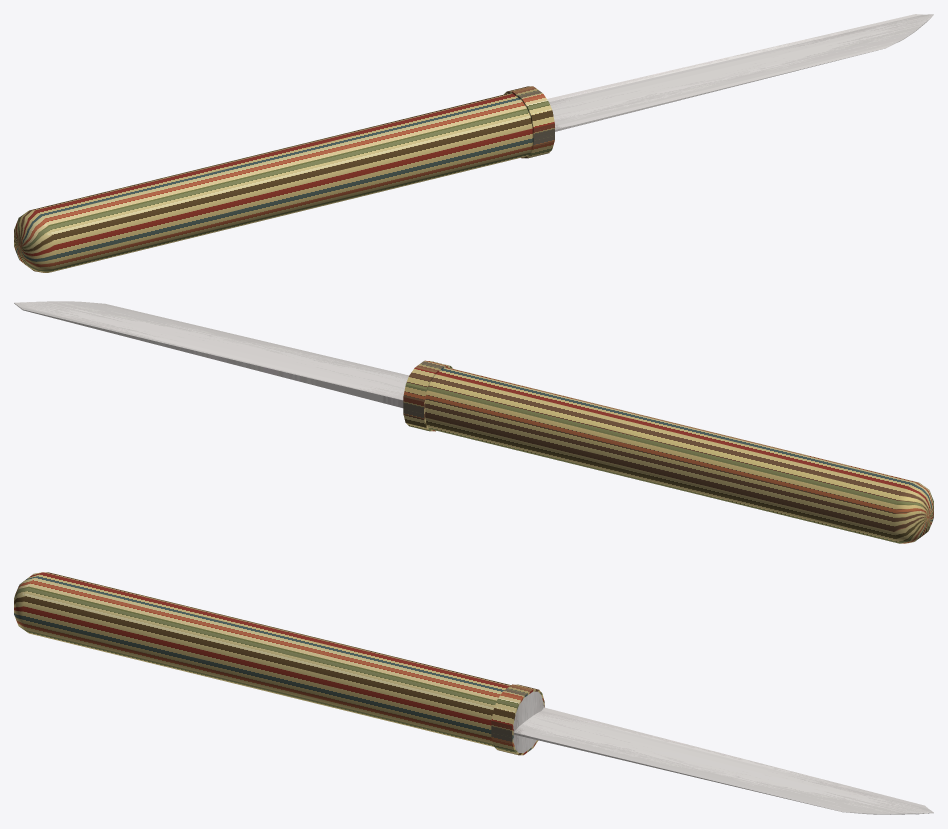
File: knife.fbx
3 views of the same model, one above another, from view 1: azimuth 30°, elevation 25°; view 2: azimuth 150°, elevation 25°; view 3: azimuth 330°, elevation 25° (orthographic).
Parts seen in each view (by area): view 1: pCube8; view 2: pCube8; view 3: pCube8.
Boxes of the visible parts, x1,y1,x2,y2 form: pCube8: (14, 14, 933, 272); pCube8: (14, 301, 933, 543); pCube8: (14, 572, 933, 814).
Size of the model in its own units: 3.45 by 0.2139 by 0.2139.
